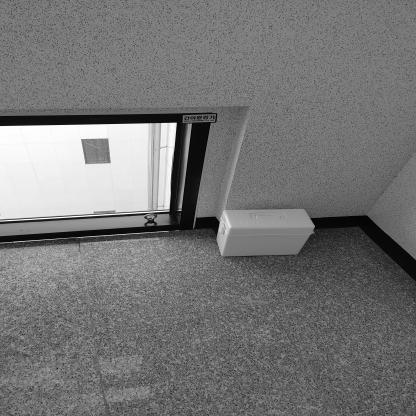DDL: (216, 209, 315, 257)
